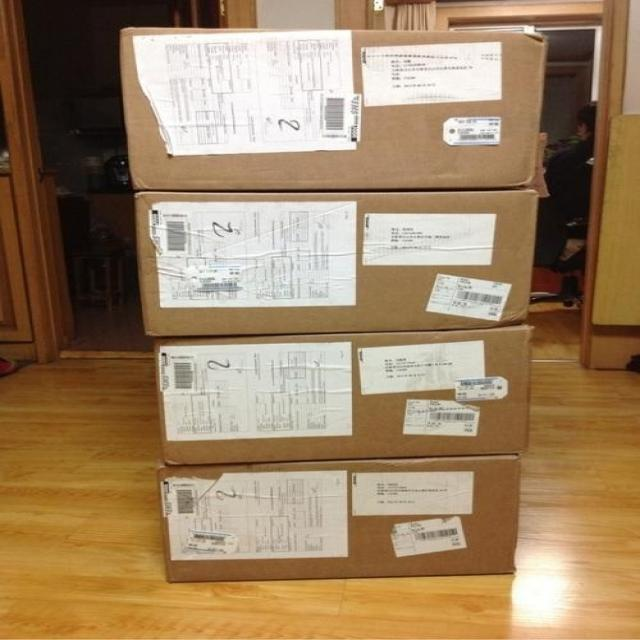Carton: (122, 30, 539, 189), (137, 193, 535, 335), (152, 329, 525, 466), (159, 459, 522, 583)
